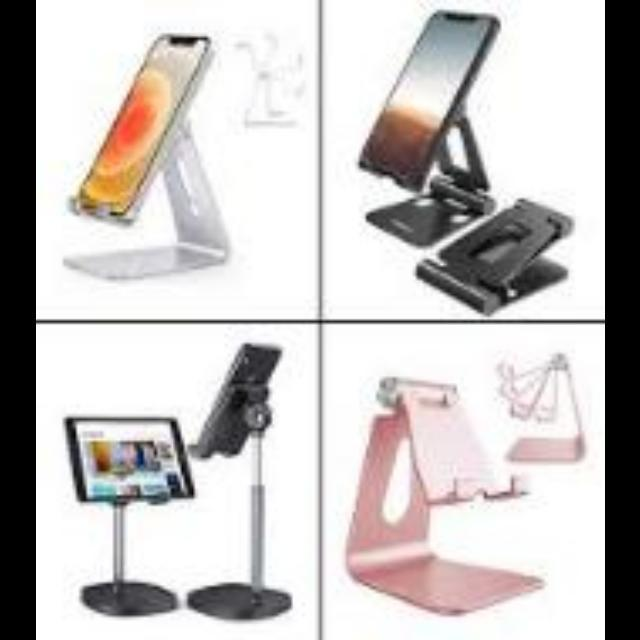Phone: (359, 12, 527, 184), (74, 44, 204, 226), (61, 412, 205, 510), (186, 340, 294, 468)
